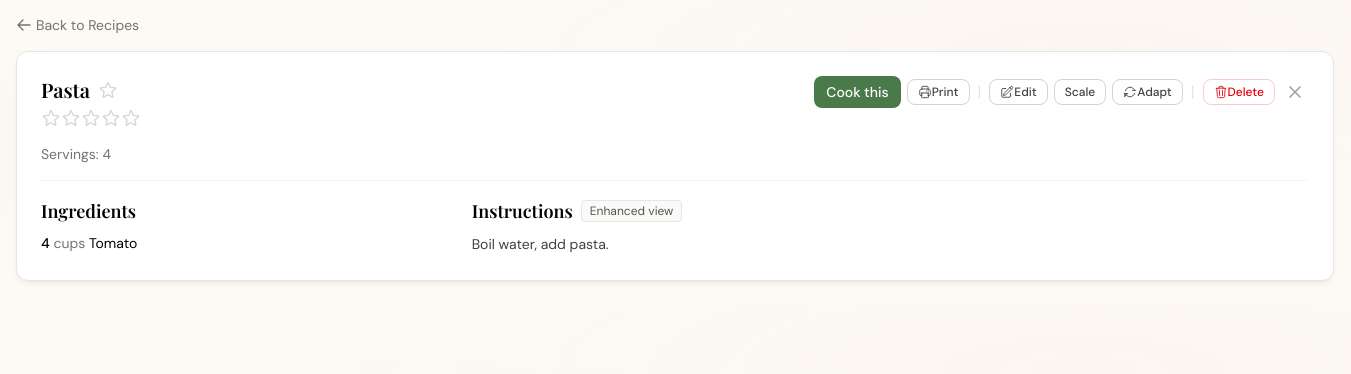
Test case: RecipeDetailPage › cooking mode › Escape exits cook mode first when a delete confirmation is pending underneath
expect the heading "Pasta" is shown: met, box left=41, top=76, right=90, bottom=104
Stage delete confirmation, then enter cook mode while it's still up.
Step 1. Click the button "Delete" → (1239, 92), box left=1202, top=79, right=1275, bottom=105
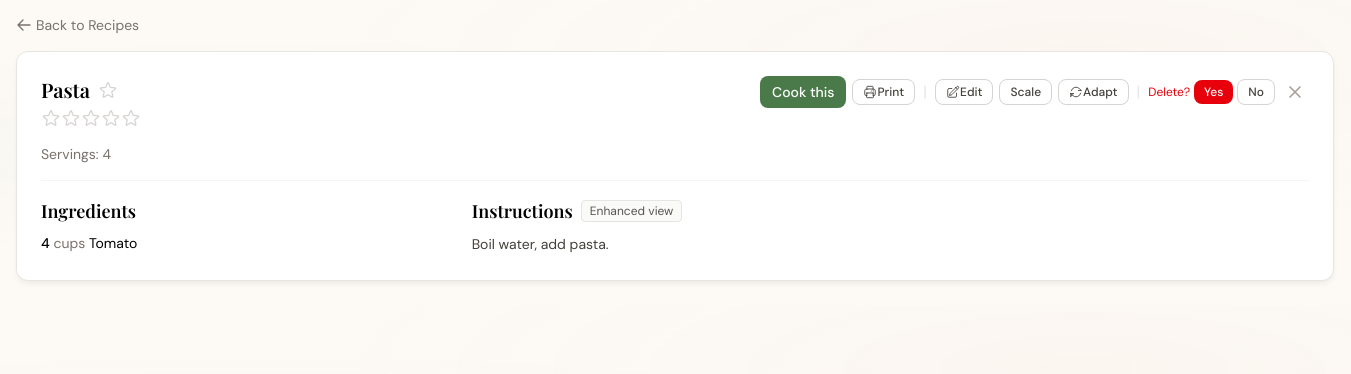
expect the button "Yes" is shown: met, box left=1194, top=80, right=1233, bottom=104
Step 2. Click the button "Cook this" → (803, 92), box left=760, top=76, right=846, bottom=108
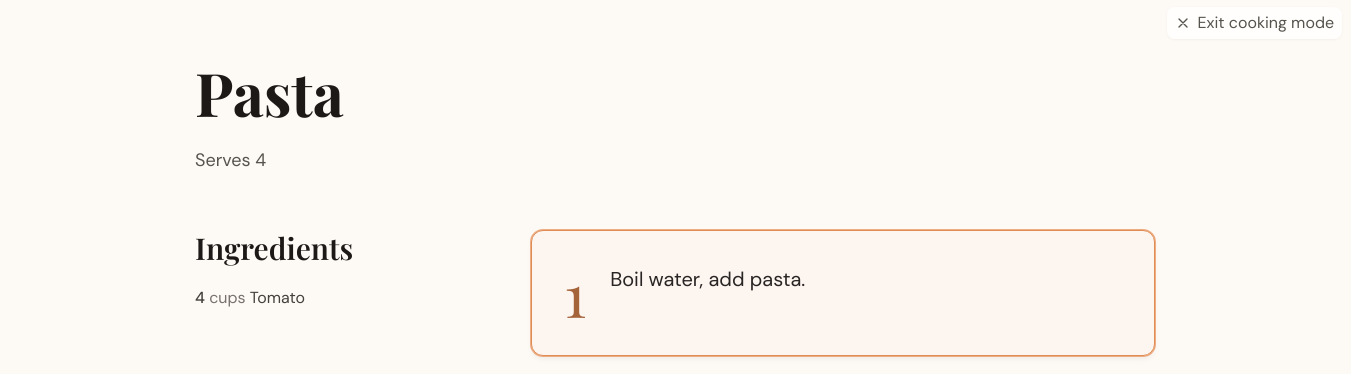
expect the heading "Pasta" is shown: met, box left=195, top=52, right=344, bottom=132
First Escape exits cook mode (priority over delete confirmation).
Step 3. Press Escape
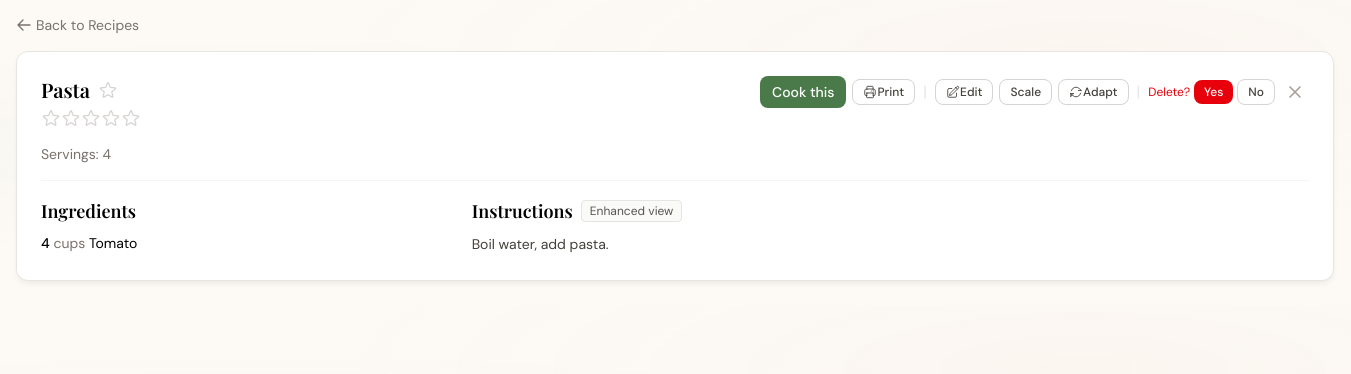
expect the heading "Pasta" is shown: met, box left=41, top=76, right=90, bottom=104
expect the button "Yes" is shown: met, box left=1194, top=80, right=1233, bottom=104
Step 4. Press Escape
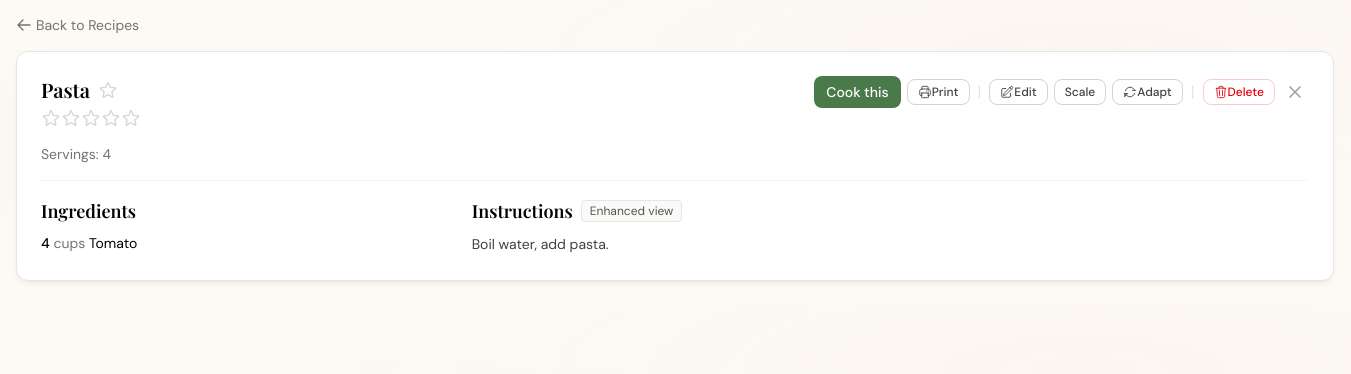
expect the button "Yes" is gone: met
